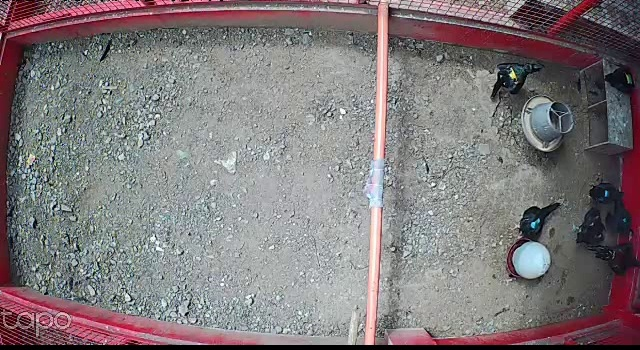Chicken: (484, 62, 544, 102), (511, 200, 561, 240), (601, 191, 635, 240), (573, 209, 608, 247), (584, 180, 626, 207)
Rooster: (586, 242, 640, 275)
Saddle_Color_Blue: (603, 190, 609, 198)
Saddle_Color_Yellow: (508, 66, 519, 81)
